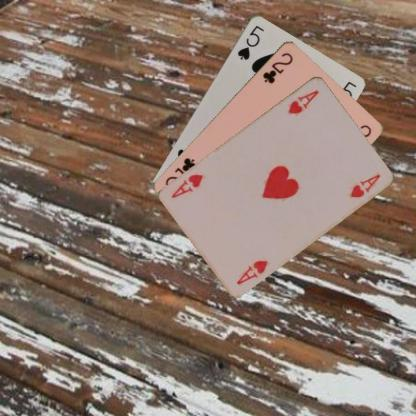2c: (260, 49, 294, 85)
5s: (235, 22, 265, 61)
Ah: (234, 257, 270, 286), (286, 87, 320, 115)
